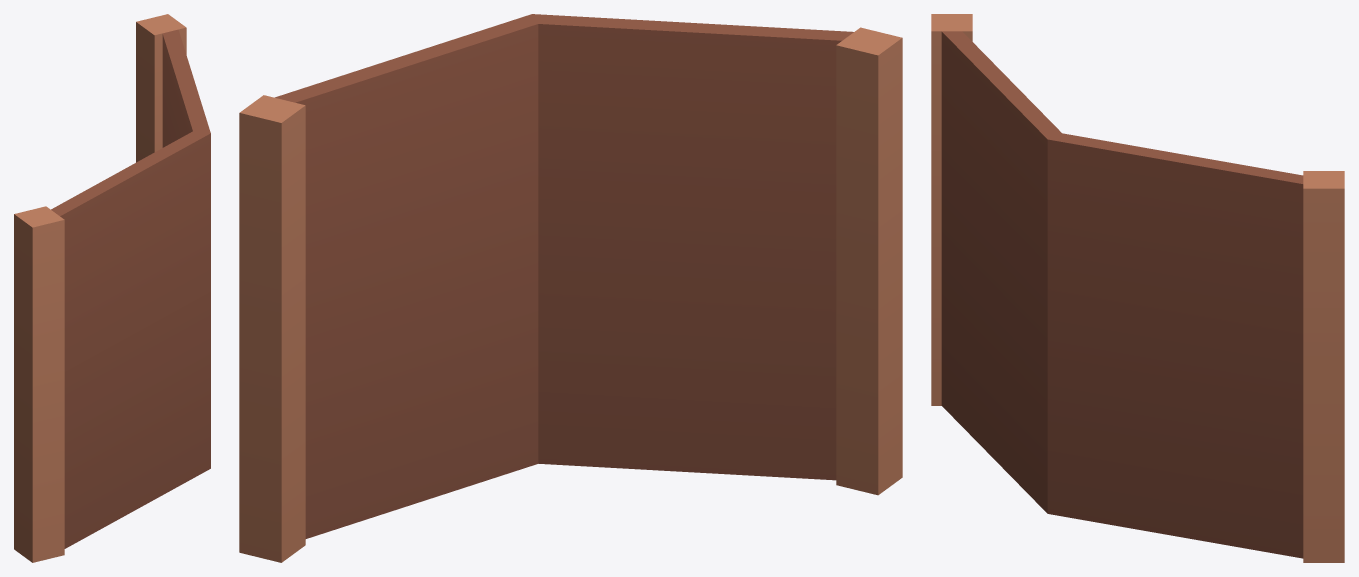
File: wall-kn-wall-wood-corner-edge.glb
3 views of the same model, side by side, from view 1: azimuth 30°, elevation 25°; view 2: azimuth 150°, elevation 25°; view 3: azimuth 270°, elevation 25° (orthographic). The views are drawn at different scales.
Visible parts, largest first — view 1: wall-wood-corner-edge; view 2: wall-wood-corner-edge; view 3: wall-wood-corner-edge.
Part boxes in pixels (bbox=[...]): wall-wood-corner-edge: bbox=[14, 14, 210, 562]; wall-wood-corner-edge: bbox=[239, 14, 902, 562]; wall-wood-corner-edge: bbox=[931, 14, 1344, 562].
Size of the model in its own units: 3 by 3 by 3.
Materials: 1 (1 with a texture image).
